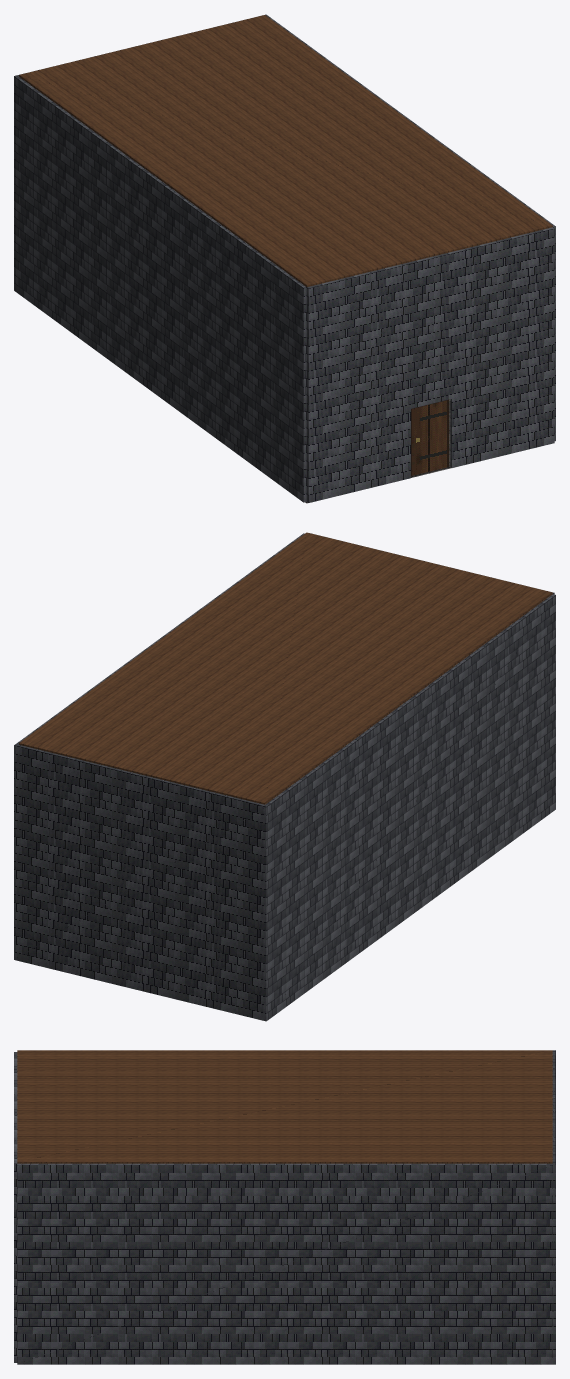
Rendered from santuario_dentro.obj.
The picture shows the model from 3 angles, top to bottom: view 1: azimuth 30°, elevation 25°; view 2: azimuth 150°, elevation 25°; view 3: azimuth 270°, elevation 25°; orthographic projection. The views are drawn at different scales.
Visible parts, largest first — view 1: santuario_dentro; view 2: santuario_dentro; view 3: santuario_dentro.
Boxes of the visible parts, <box> form: santuario_dentro: <box>14,14,555,503</box>; santuario_dentro: <box>14,532,555,1021</box>; santuario_dentro: <box>14,1050,555,1364</box>.
Bounding box in the file's own units: 16 × 13.2 × 32.
6 materials, 6 textured.
